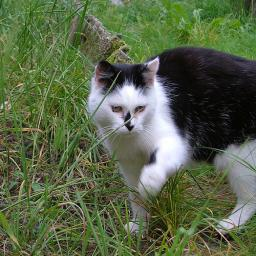catnose: (125, 119, 135, 132)
